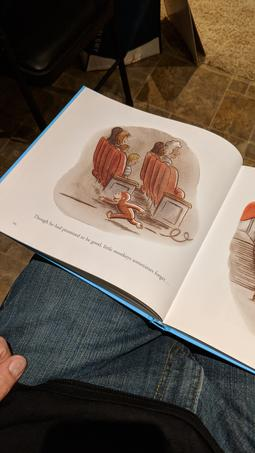text block: (32, 209, 175, 285)
